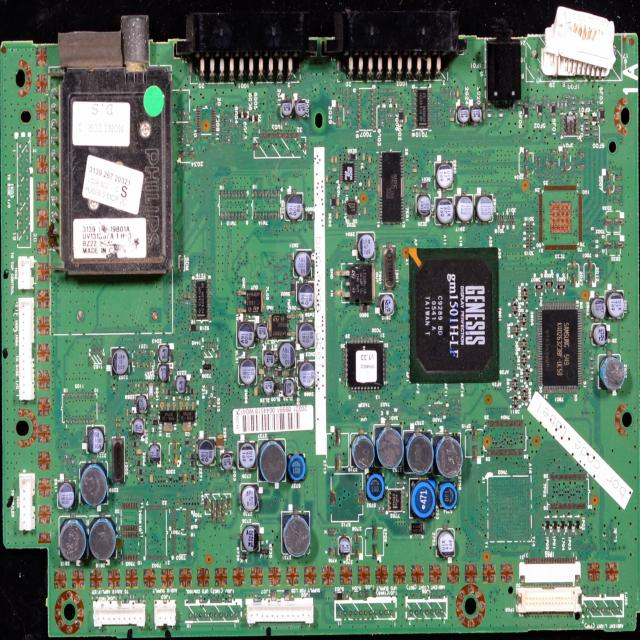Capacitor Jumper: (296, 316, 326, 350), (430, 162, 456, 193), (475, 194, 494, 236), (298, 359, 318, 393), (240, 358, 258, 395), (298, 283, 322, 309), (58, 478, 78, 509), (294, 251, 314, 280), (87, 427, 107, 455), (112, 348, 132, 375), (237, 439, 256, 467), (454, 193, 470, 226), (357, 233, 376, 260), (438, 197, 452, 233), (282, 379, 302, 404), (609, 287, 625, 317), (588, 322, 606, 348), (239, 443, 255, 466), (242, 488, 258, 511), (242, 527, 258, 550), (239, 322, 255, 344), (592, 294, 607, 317), (198, 439, 212, 463), (199, 441, 213, 463), (59, 484, 73, 506), (279, 345, 293, 367), (380, 293, 392, 318), (418, 192, 431, 214), (157, 346, 171, 365), (174, 378, 187, 398), (220, 454, 234, 472), (263, 375, 273, 398), (262, 349, 274, 367), (151, 443, 161, 464), (131, 421, 144, 437), (135, 397, 148, 412), (222, 454, 231, 470), (257, 320, 264, 340), (160, 365, 168, 382), (149, 474, 154, 486), (136, 449, 143, 456), (344, 185, 351, 192), (330, 154, 334, 166), (334, 154, 338, 166), (184, 474, 188, 484), (336, 197, 340, 207), (126, 408, 130, 418), (412, 168, 418, 174), (367, 179, 371, 188), (335, 211, 339, 220), (368, 156, 372, 164), (325, 175, 329, 183), (363, 207, 367, 215), (582, 114, 588, 119), (405, 114, 408, 124), (362, 152, 365, 162), (331, 168, 337, 172), (115, 424, 121, 428), (448, 118, 455, 121), (114, 418, 120, 421), (457, 90, 459, 97)
Connector: (52, 7, 175, 278), (324, 10, 468, 81), (178, 10, 318, 78), (542, 1, 620, 80), (481, 22, 526, 111)
IC: (407, 248, 500, 382), (535, 297, 582, 397), (344, 333, 388, 393), (377, 150, 405, 223), (192, 278, 214, 319), (412, 86, 431, 128), (340, 164, 358, 185), (347, 198, 362, 216)
